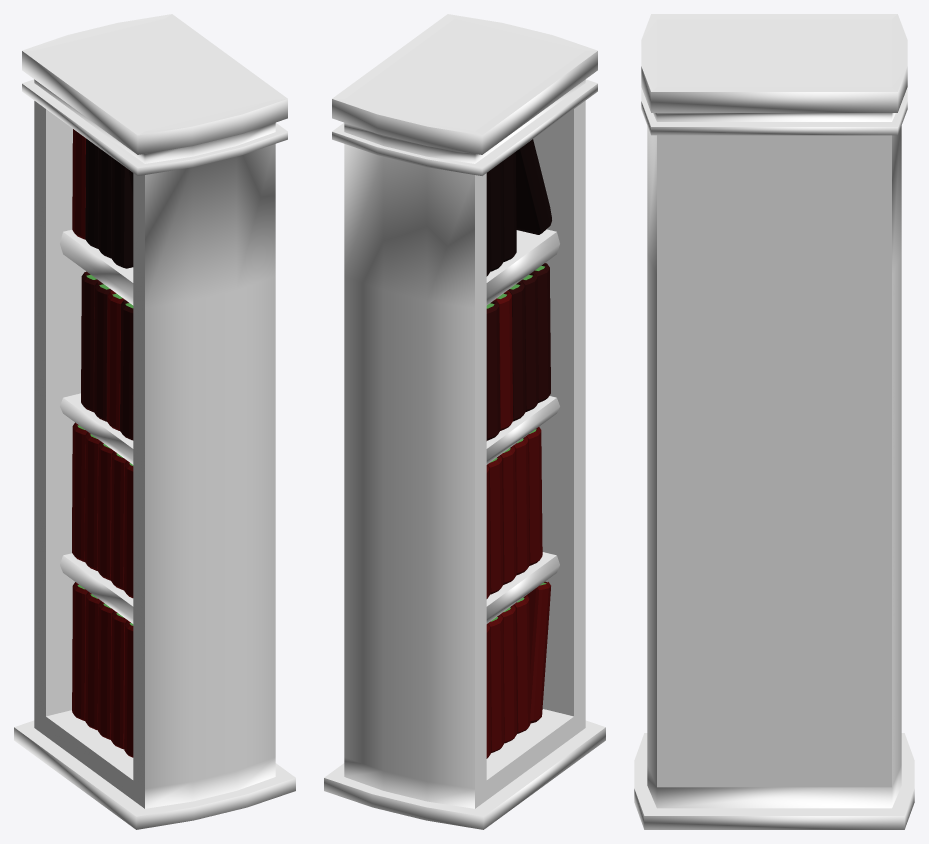
File: Small1.fbx
3 renders of one model, left to right at view 1: azimuth 30°, elevation 25°; view 2: azimuth 150°, elevation 25°; view 3: azimuth 270°, elevation 25°, orthographic. The views are drawn at different scales.
Parts seen in each view (by area): view 1: Book Shelf.006; view 2: Book Shelf.006; view 3: Book Shelf.006.
Part boxes in pixels (<box>): Book Shelf.006: <box>14,14,295,829</box>; Book Shelf.006: <box>324,14,605,829</box>; Book Shelf.006: <box>634,14,914,829</box>.
Size of the model in its own units: 223 by 921 by 318.
